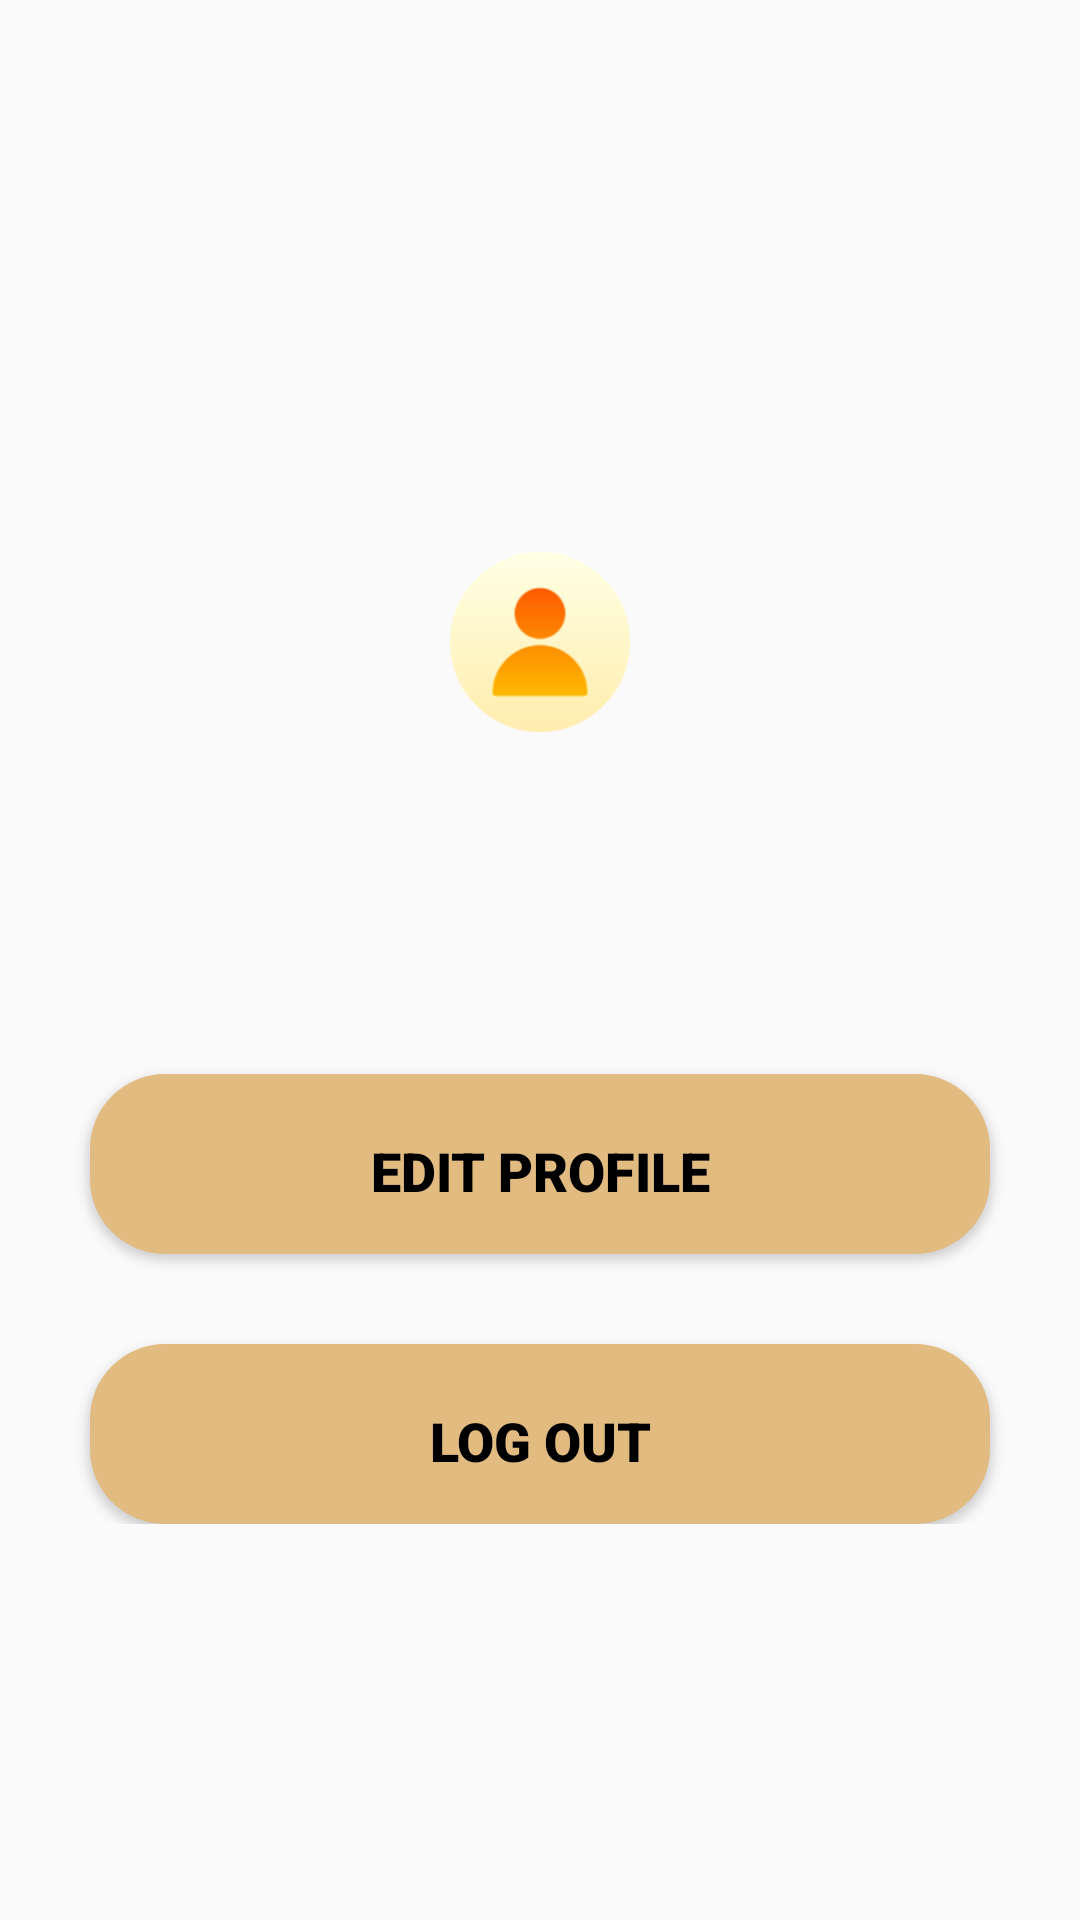

Named icons in this screenshot (1080w x 1920h) and their bounding boxes, Rect(x1, y1, x2, y2):
profile: Rect(450, 563, 630, 732)
